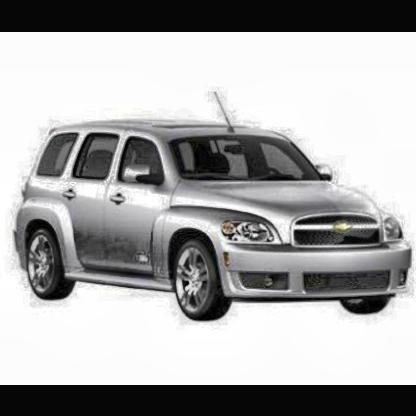Chevrolet HHR SS 2010: (15, 94, 412, 323)
